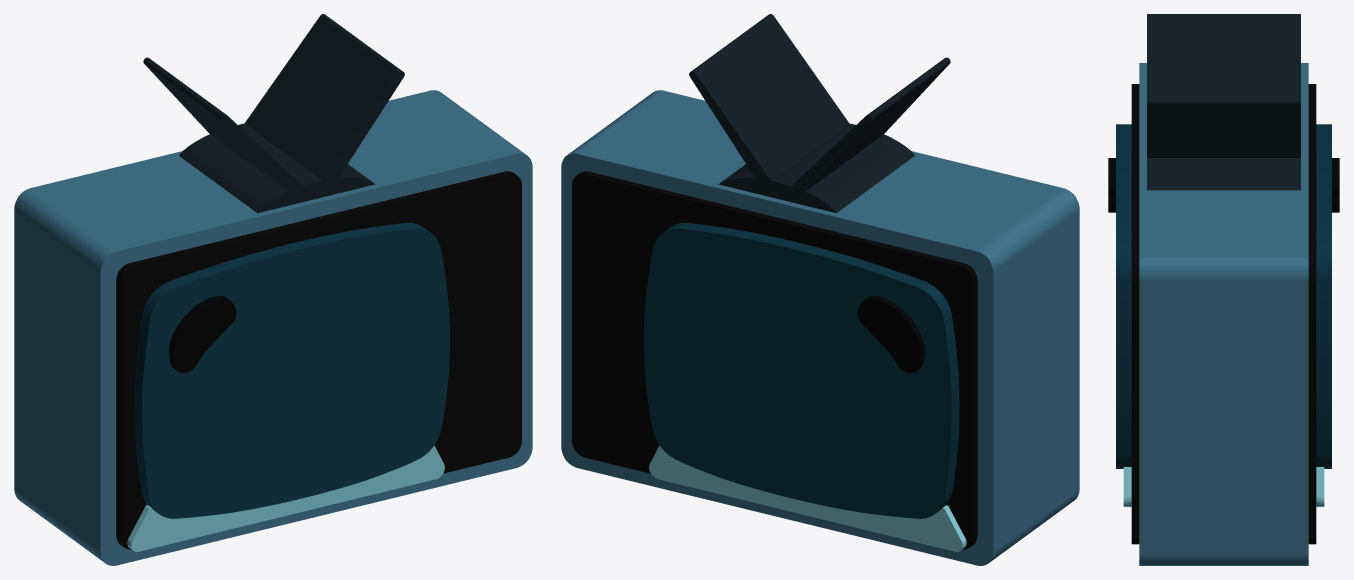
3 renders of one model, left to right at view 1: azimuth 30°, elevation 25°; view 2: azimuth 150°, elevation 25°; view 3: azimuth 270°, elevation 25°, orthographic.
Parts seen in each view (by area): view 1: U+1F4FA_layer04_obj00, U+1F4FA_layer01_obj00, U+1F4FA_layer02_obj00, U+1F4FA_layer00_obj03, U+1F4FA_layer03_obj00, U+1F4FA_layer00_obj01, U+1F4FA_layer00_obj00, U+1F4FA_layer05_obj00, U+1F4FA_layer02_obj01; view 2: U+1F4FA_layer04_obj00, U+1F4FA_layer01_obj00, U+1F4FA_layer02_obj00, U+1F4FA_layer00_obj03, U+1F4FA_layer03_obj00, U+1F4FA_layer00_obj01, U+1F4FA_layer00_obj00, U+1F4FA_layer02_obj01, U+1F4FA_layer05_obj00; view 3: U+1F4FA_layer01_obj00, U+1F4FA_layer00_obj00, U+1F4FA_layer04_obj00, U+1F4FA_layer00_obj03, U+1F4FA_layer02_obj00, U+1F4FA_layer00_obj01, U+1F4FA_layer05_obj00, U+1F4FA_layer03_obj00.
Part boxes in pixels (box(x1,y1,x2,y2)): U+1F4FA_layer04_obj00: box(134, 222, 449, 518); U+1F4FA_layer01_obj00: box(14, 90, 532, 565); U+1F4FA_layer02_obj00: box(116, 171, 521, 549); U+1F4FA_layer00_obj03: box(244, 14, 404, 197); U+1F4FA_layer03_obj00: box(127, 445, 444, 551); U+1F4FA_layer00_obj01: box(179, 123, 375, 213); U+1F4FA_layer00_obj00: box(143, 57, 311, 202); U+1F4FA_layer05_obj00: box(169, 296, 236, 373); U+1F4FA_layer02_obj01: box(128, 215, 415, 510); U+1F4FA_layer04_obj00: box(644, 222, 959, 518); U+1F4FA_layer01_obj00: box(561, 90, 1079, 565); U+1F4FA_layer02_obj00: box(572, 171, 977, 549); U+1F4FA_layer00_obj03: box(689, 14, 849, 196); U+1F4FA_layer03_obj00: box(649, 445, 966, 551); U+1F4FA_layer00_obj01: box(718, 123, 914, 213); U+1F4FA_layer00_obj00: box(782, 57, 950, 202); U+1F4FA_layer02_obj01: box(647, 215, 965, 511); U+1F4FA_layer05_obj00: box(857, 296, 924, 373); U+1F4FA_layer01_obj00: box(1139, 63, 1308, 565); U+1F4FA_layer00_obj00: box(1147, 14, 1300, 97); U+1F4FA_layer04_obj00: box(1116, 124, 1331, 468); U+1F4FA_layer00_obj03: box(1147, 97, 1300, 157); U+1F4FA_layer02_obj00: box(1131, 84, 1316, 544); U+1F4FA_layer00_obj01: box(1147, 158, 1300, 190); U+1F4FA_layer05_obj00: box(1108, 158, 1339, 212); U+1F4FA_layer03_obj00: box(1123, 467, 1324, 506).
Bounding box in the file's own units: 0.3175 × 0.2955 × 0.15.
